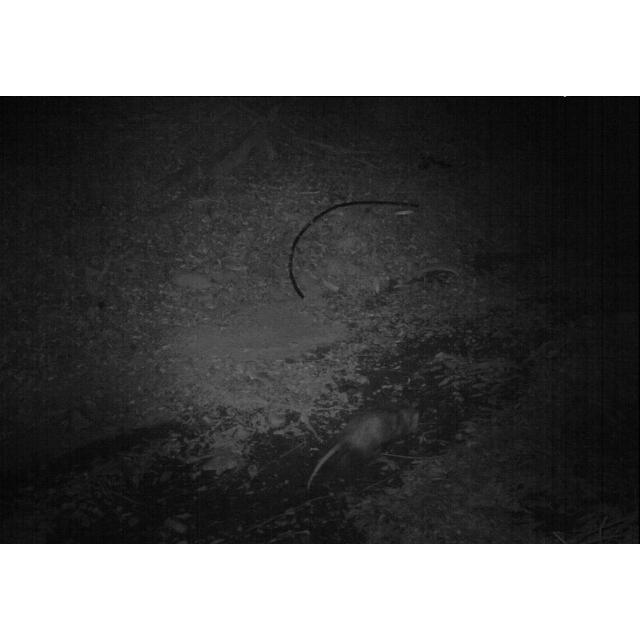animals: (304, 402, 422, 488)
